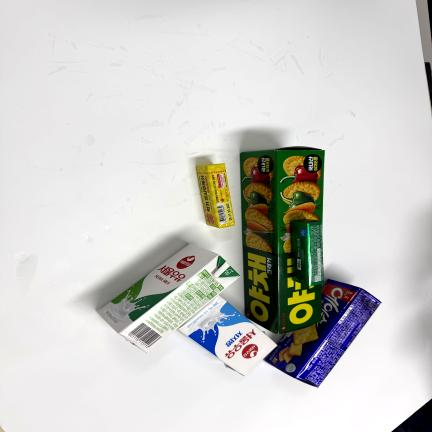cracker_ace: (266, 279, 380, 387)
cracker_vege: (241, 146, 324, 335)
gum_green: (291, 219, 323, 285)
gum_yellow: (196, 163, 235, 228)
milk_blue: (179, 296, 276, 375)
milk_green: (99, 244, 239, 352)
